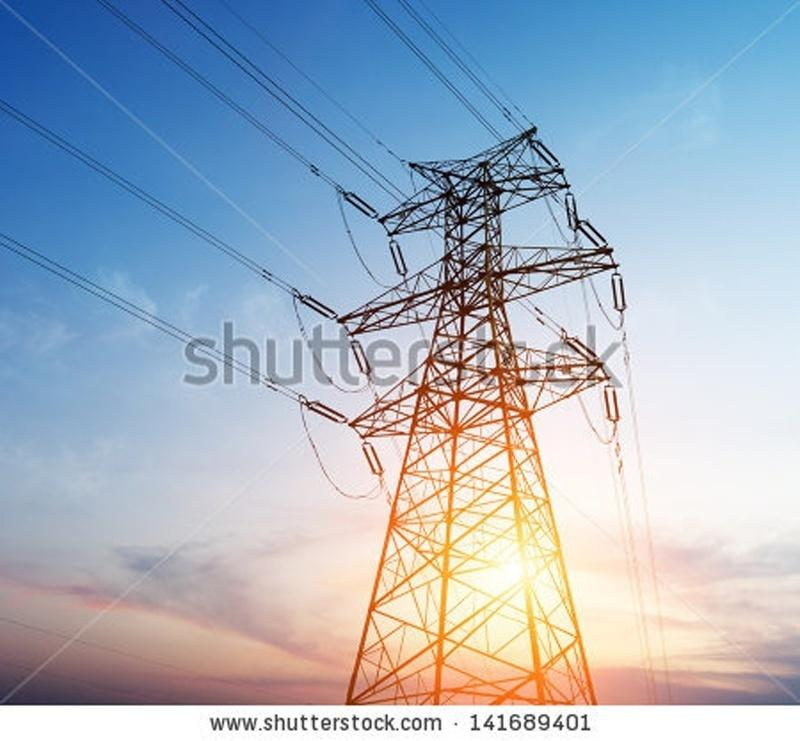power_tower: (314, 163, 631, 708)
